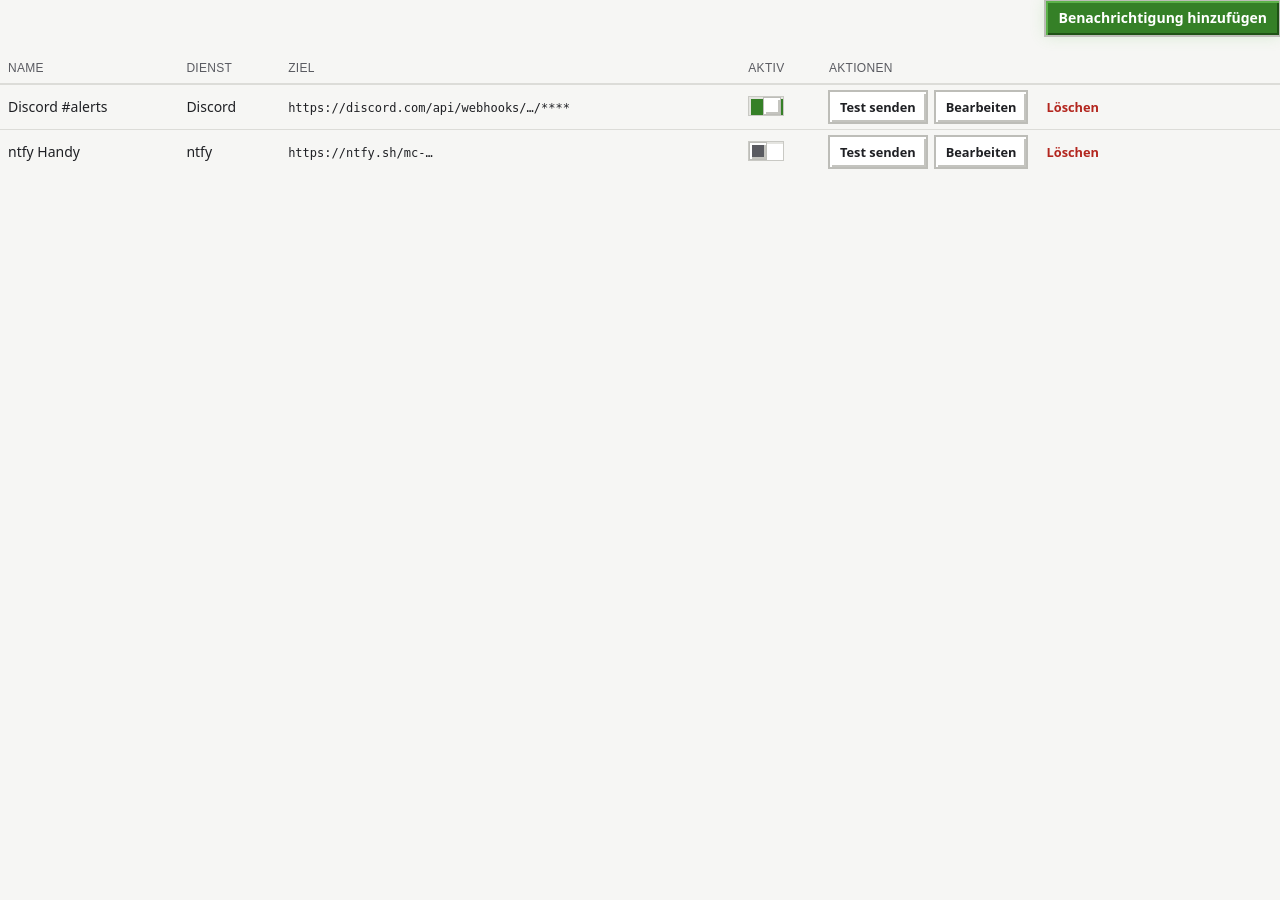
Test: NotifiersTab › toggles a notifier and renames it without resending the secret URL
Click the switch named "ntfy Handy aktiv": (766, 150) [748,140,784,160]
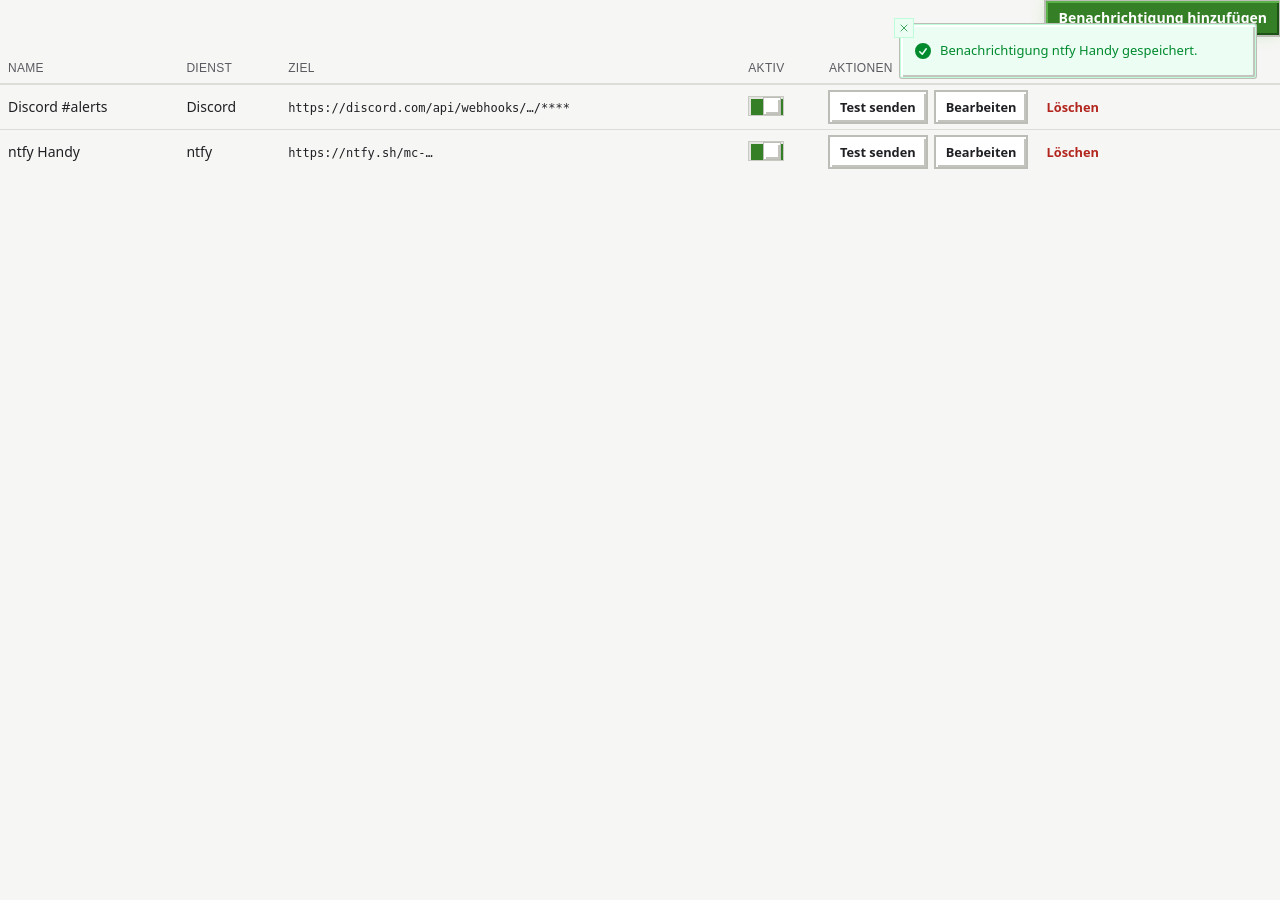
Now the text "Benachrichtigung ntfy Handy gespeichert." is shown, box [940,41,1197,60]
Click the button with aria-label "Discord #alerts bearbeiten": (981, 107) [935,91,1028,123]
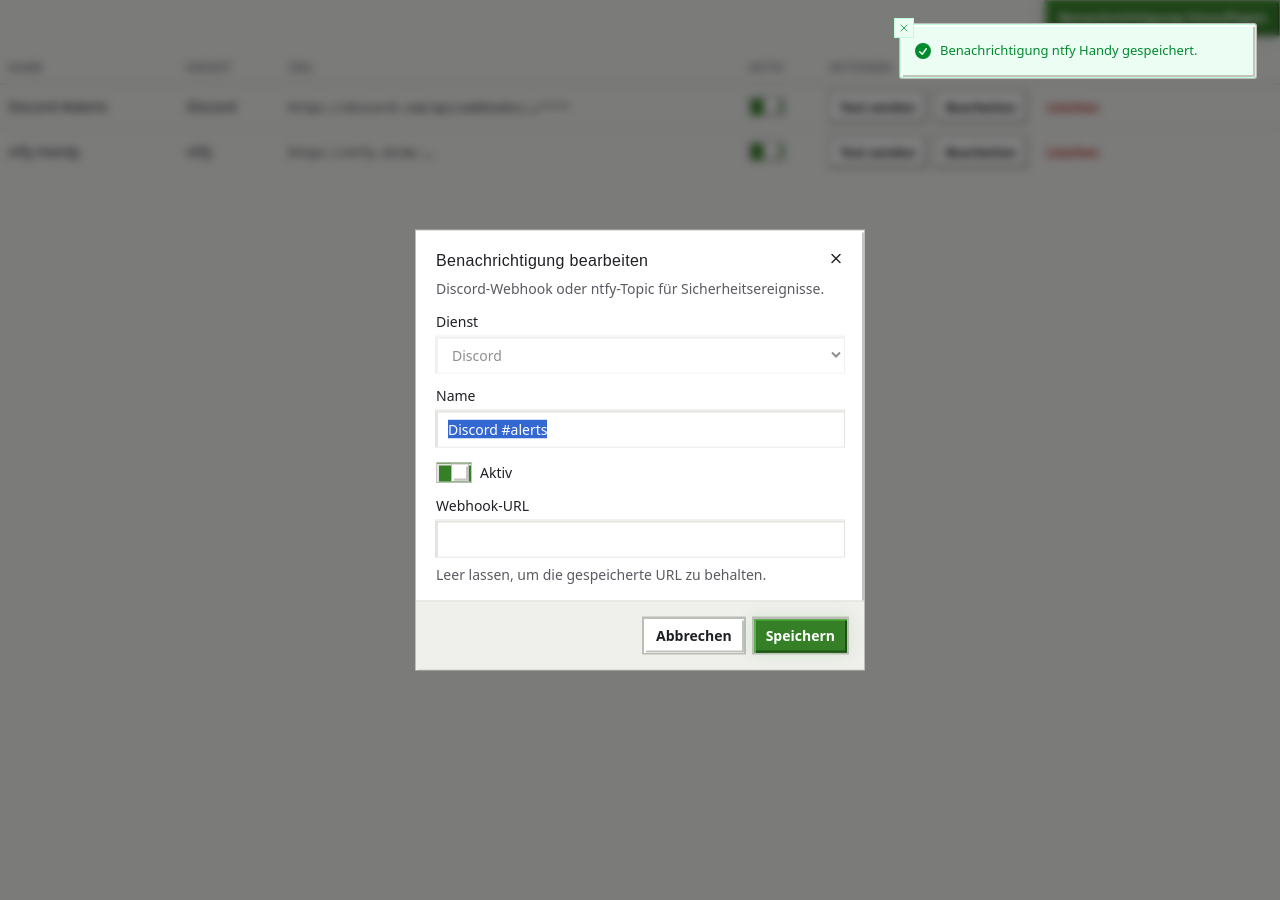
Now the text "Leer lassen, um die gespeicherte URL zu behalten." is shown, box [436,564,766,584]
Replace the text in the field labelled "Name" with "Discord #ops": (640, 428) [436,410,844,446]
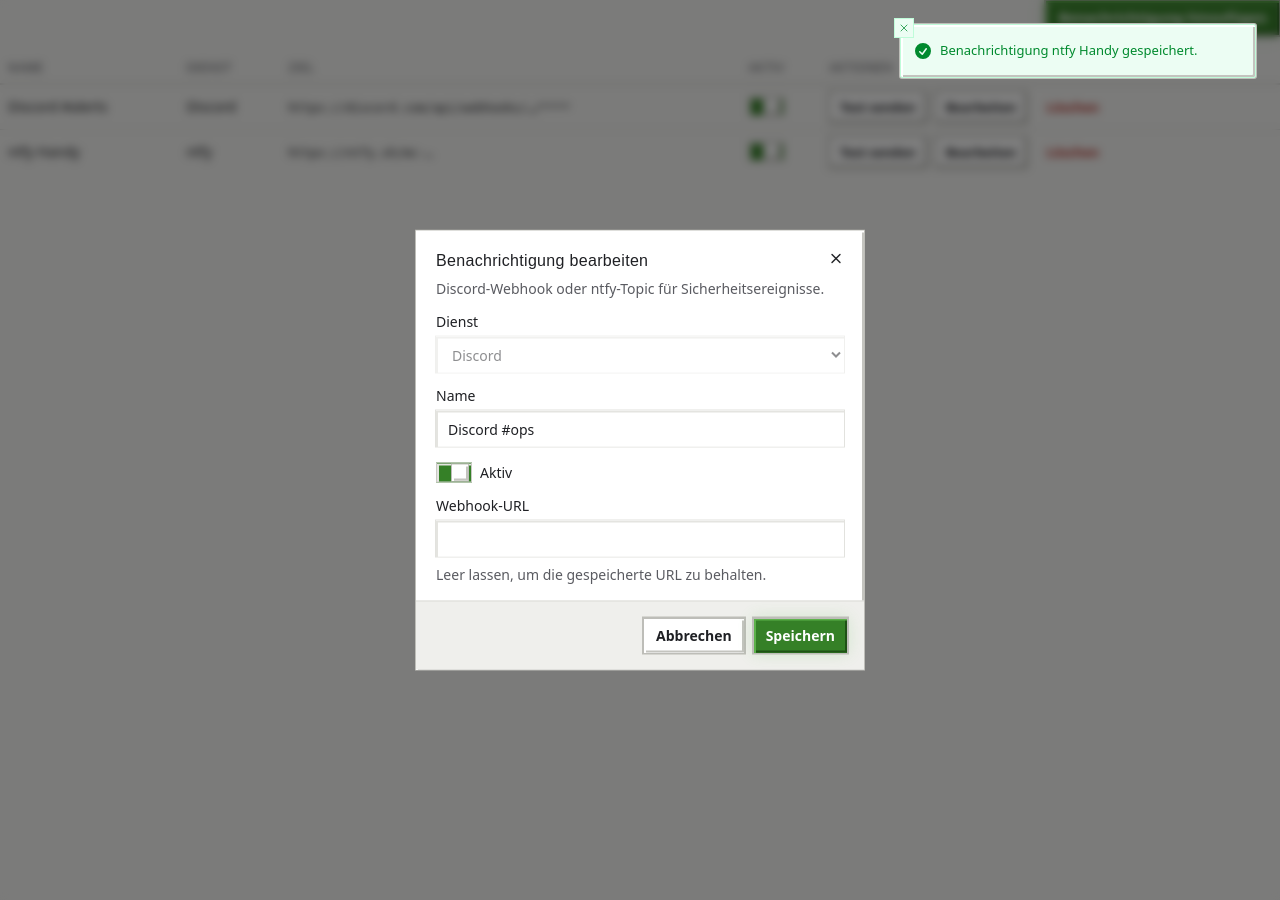
Click the button "Speichern": (800, 636) [753,618,848,654]
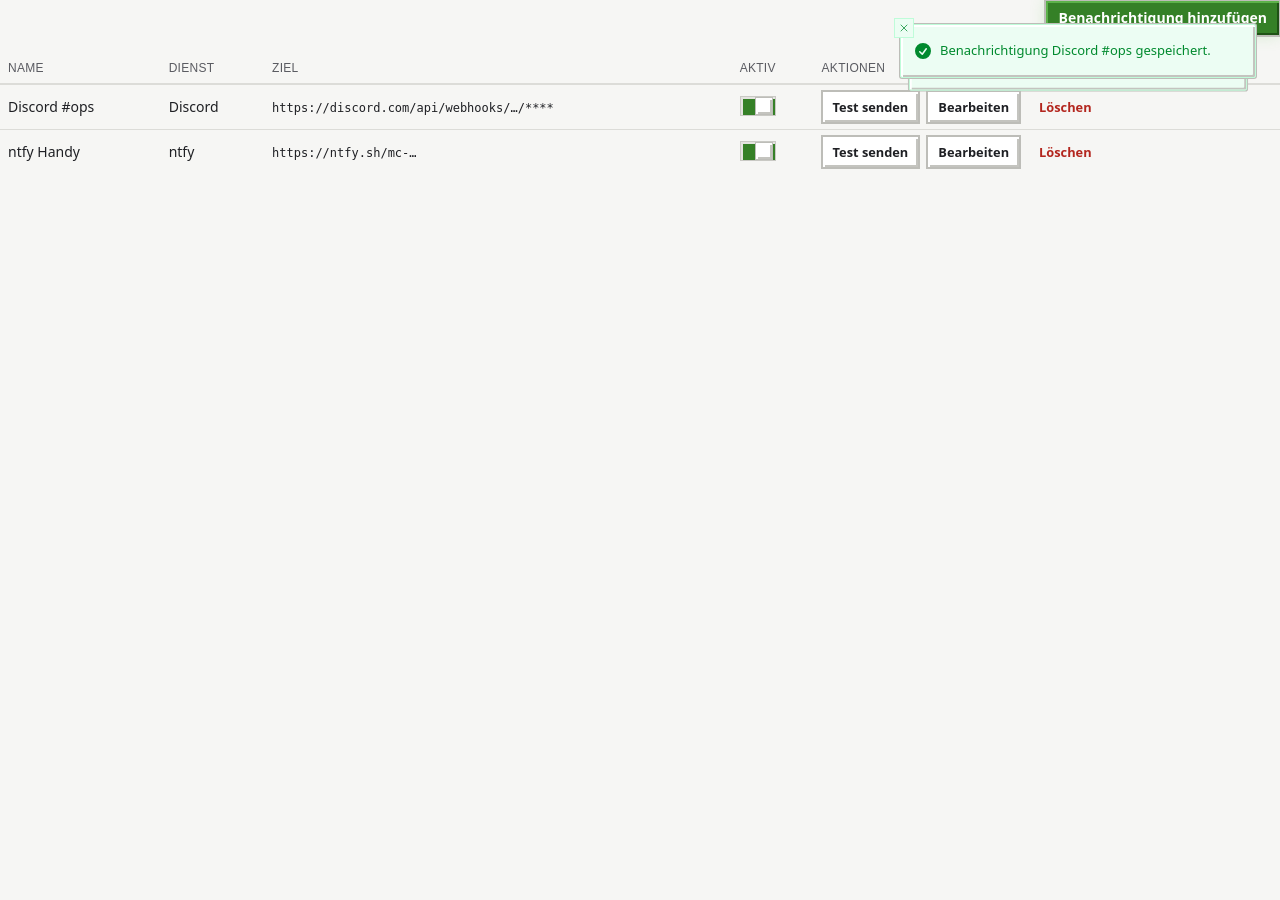
Expected: the text "https://discord.com/api/webhooks/…/****" is shown, [272,101,554,115]
Now the row "Discord #ops" is shown, box [0,85,1279,130]
